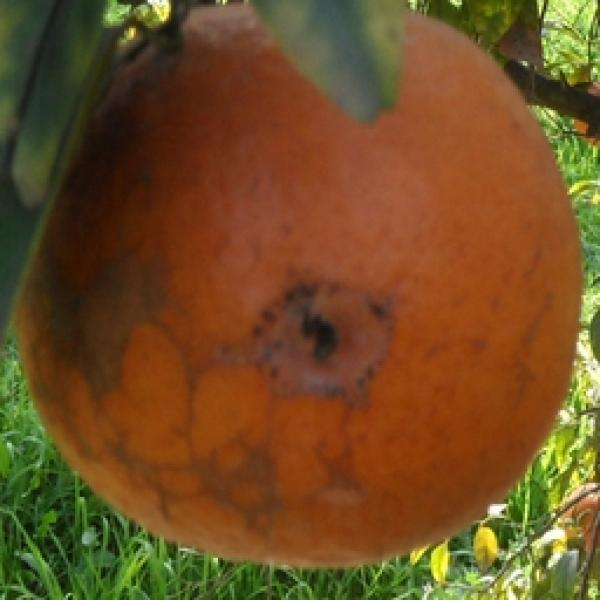Machas negras: (10, 0, 582, 570)
